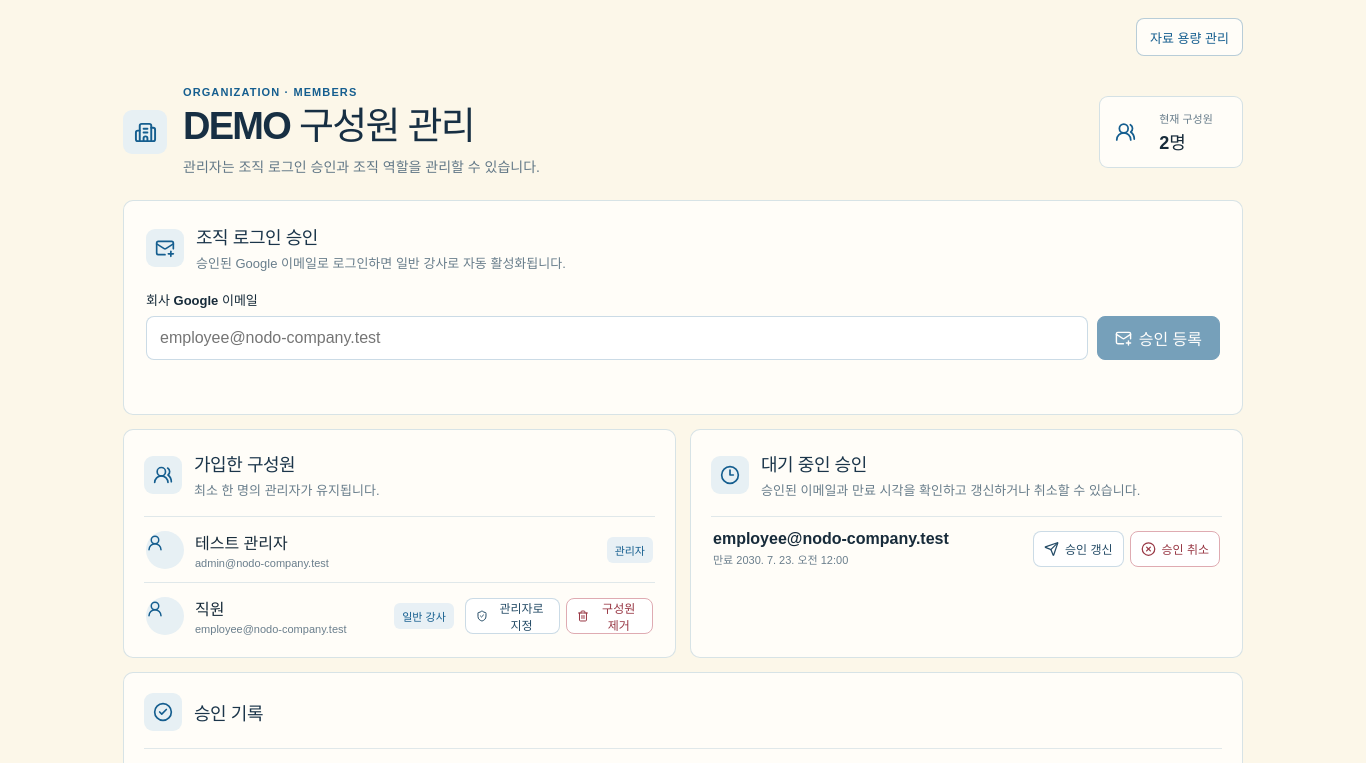
Test: 조직 구성원 관리 화면 › 구성원 제거 확인 대화상자에서 취소하면 요청하지 않는다
The width and height of the screenshot is (1366, 763).
Click the button with aria-label "직원 구성원 제거".
click(610, 616)  # box [566,598,653,634]
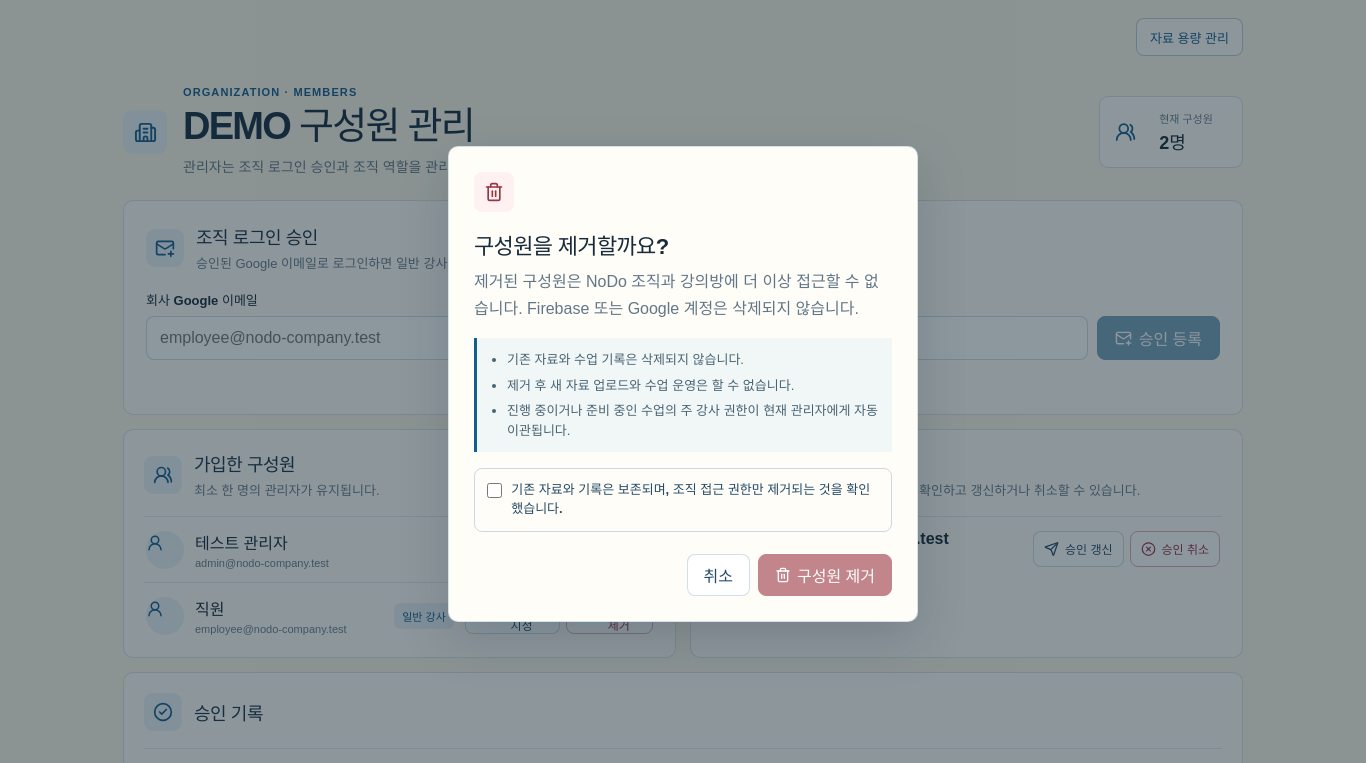
Result: the heading "구성원을 제거할까요?" is shown at [474,234,668,259]
Result: the text "Firebase 또는 Google 계정은 삭제되지 않습니다" is shown at [474,273,879,317]
Result: the list item "진행 중이거나 준비 중인 수업의 주 강사 권한이 현재 관리자에게 자동 이관됩니다." is shown at [507,401,878,440]
Click the button "취소".
click(718, 575)  # box [686,554,750,596]
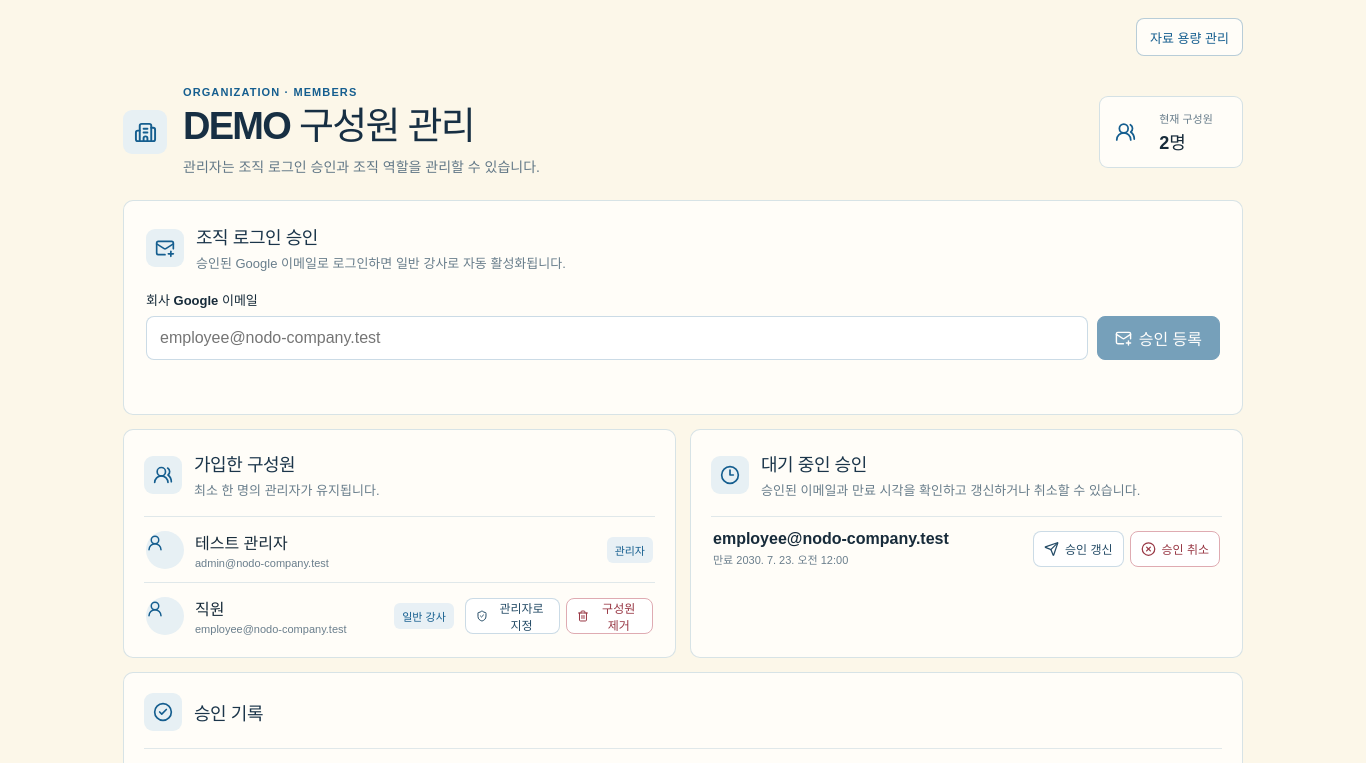
Result: the dialog is gone
